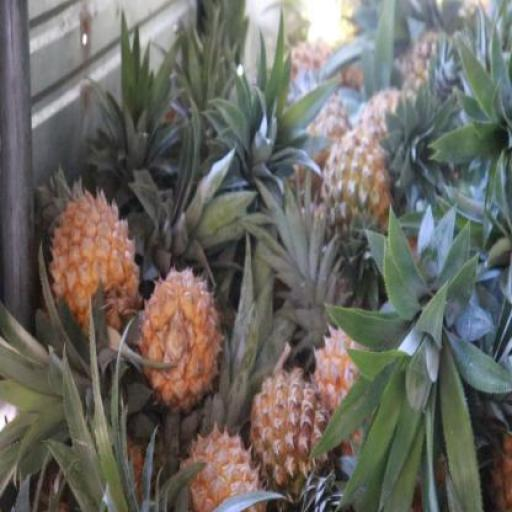Pineapple - v8 v1: (52, 186, 144, 333), (249, 363, 328, 511), (142, 266, 222, 400), (180, 423, 261, 512)
